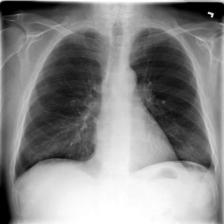normal: (7, 22, 220, 189)
